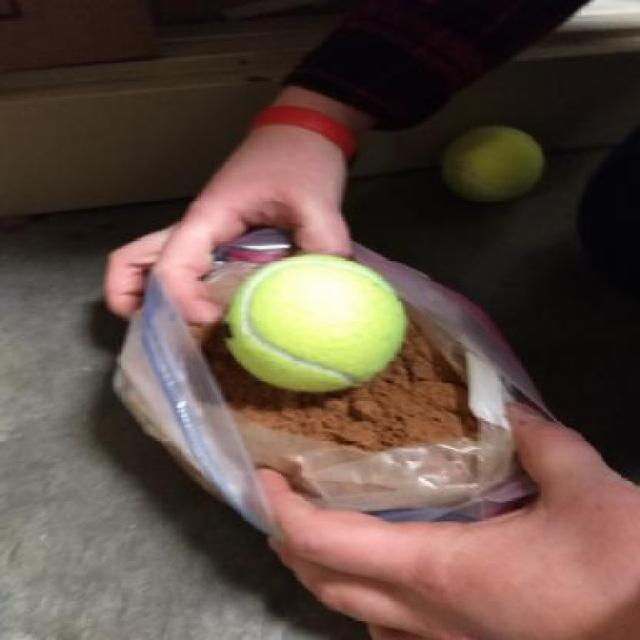Tennis_Ball: (226, 249, 400, 394), (436, 115, 556, 218)
